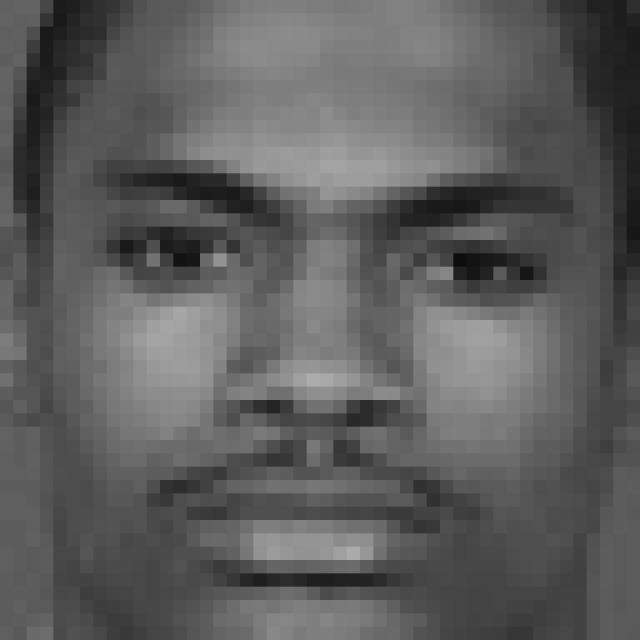neutral: (101, 149, 584, 596)
